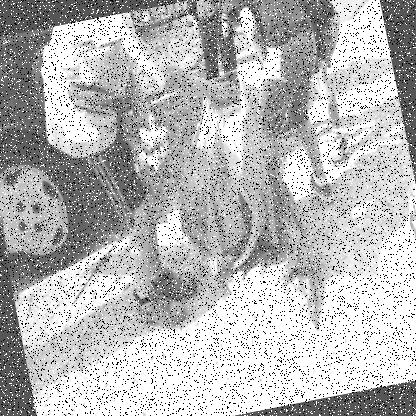Car: (0, 28, 170, 255)
